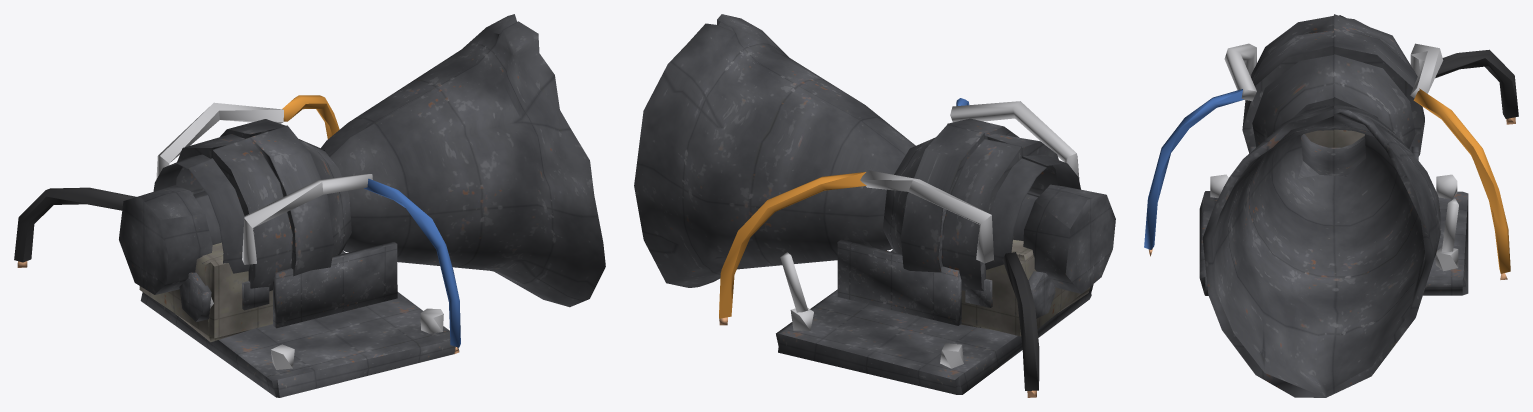
File: capsule_rcs_thruster_lod2.glb
3 views of the same model, side by side, from view 1: azimuth 30°, elevation 25°; view 2: azimuth 150°, elevation 25°; view 3: azimuth 270°, elevation 25° (orthographic). The views are drawn at different scales.
Visible parts, largest first — view 1: capsule_rcs_thruster; view 2: capsule_rcs_thruster; view 3: capsule_rcs_thruster.
Part boxes in pixels (x1,y1,x2,y2): capsule_rcs_thruster: (14,14,605,397); capsule_rcs_thruster: (634,14,1115,397); capsule_rcs_thruster: (1144,14,1518,397).
Size of the model in its own units: 0.7132 by 0.4289 by 0.5306.
7 materials, 2 textured.
